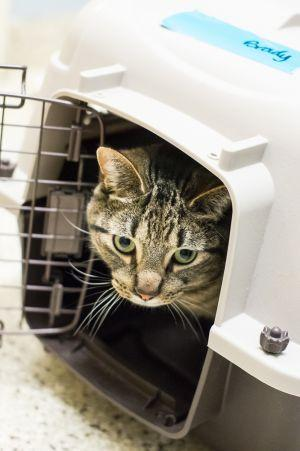bengal: (70, 126, 253, 321)
